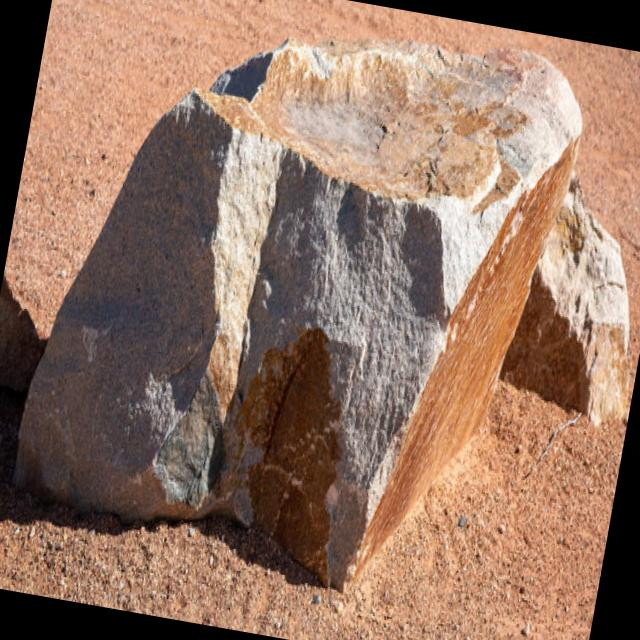stone: (15, 42, 628, 586)
white-sand: (3, 0, 640, 410), (0, 378, 626, 640)
